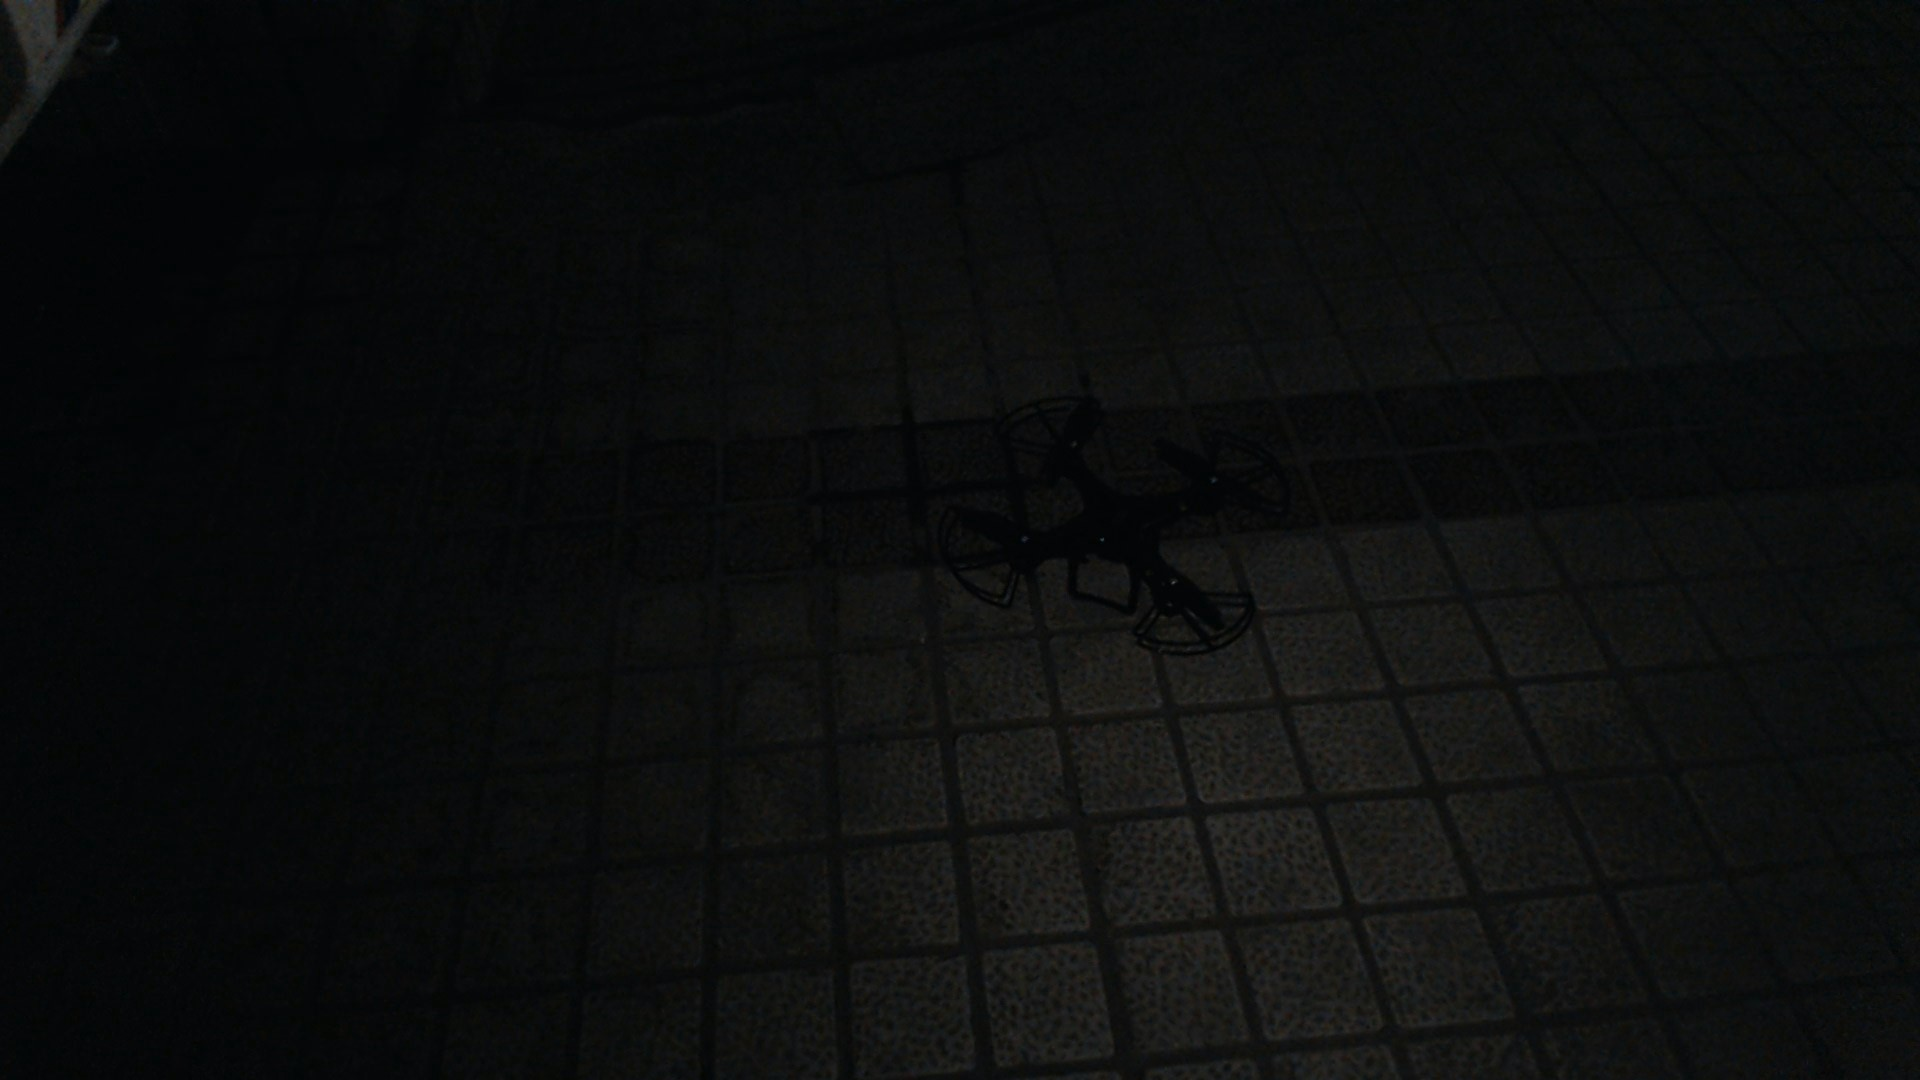test_drone: (928, 388, 1300, 651)
